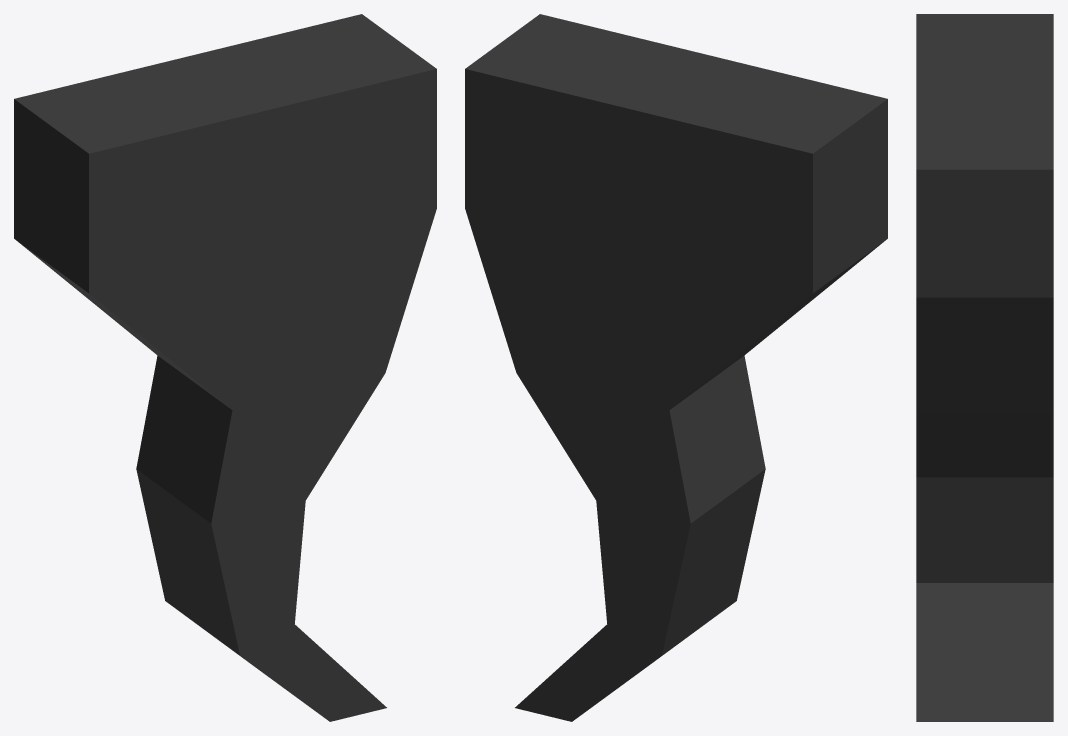
File: Pistol5_04_3.fbx
3 renders of one model, left to right at view 1: azimuth 30°, elevation 25°; view 2: azimuth 150°, elevation 25°; view 3: azimuth 270°, elevation 25°, orthographic. The views are drawn at different scales.
Visible parts, largest first — view 1: Pistol5_04_3; view 2: Pistol5_04_3; view 3: Pistol5_04_3.
Boxes of the visible parts, x1,y1,x2,y2 form: Pistol5_04_3: [14, 14, 436, 721]; Pistol5_04_3: [465, 14, 887, 721]; Pistol5_04_3: [916, 14, 1053, 721].
Bounding box in the file's own units: 0.0226 × 0.0389 × 0.00844.
